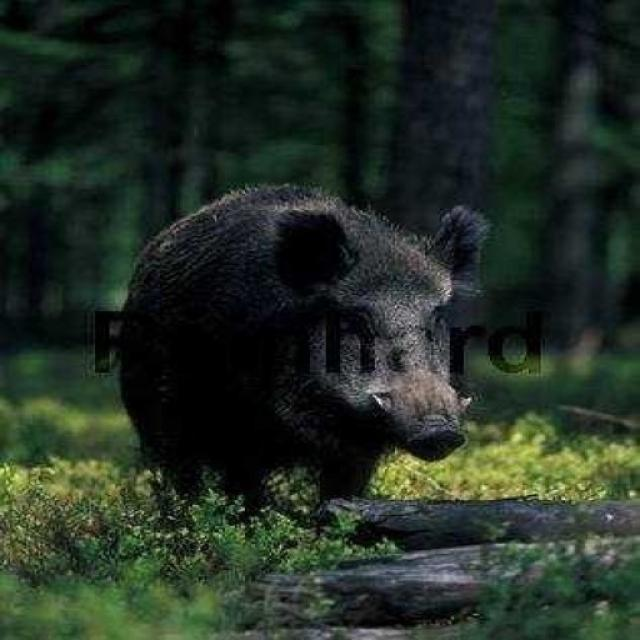pig: (75, 161, 495, 531)
